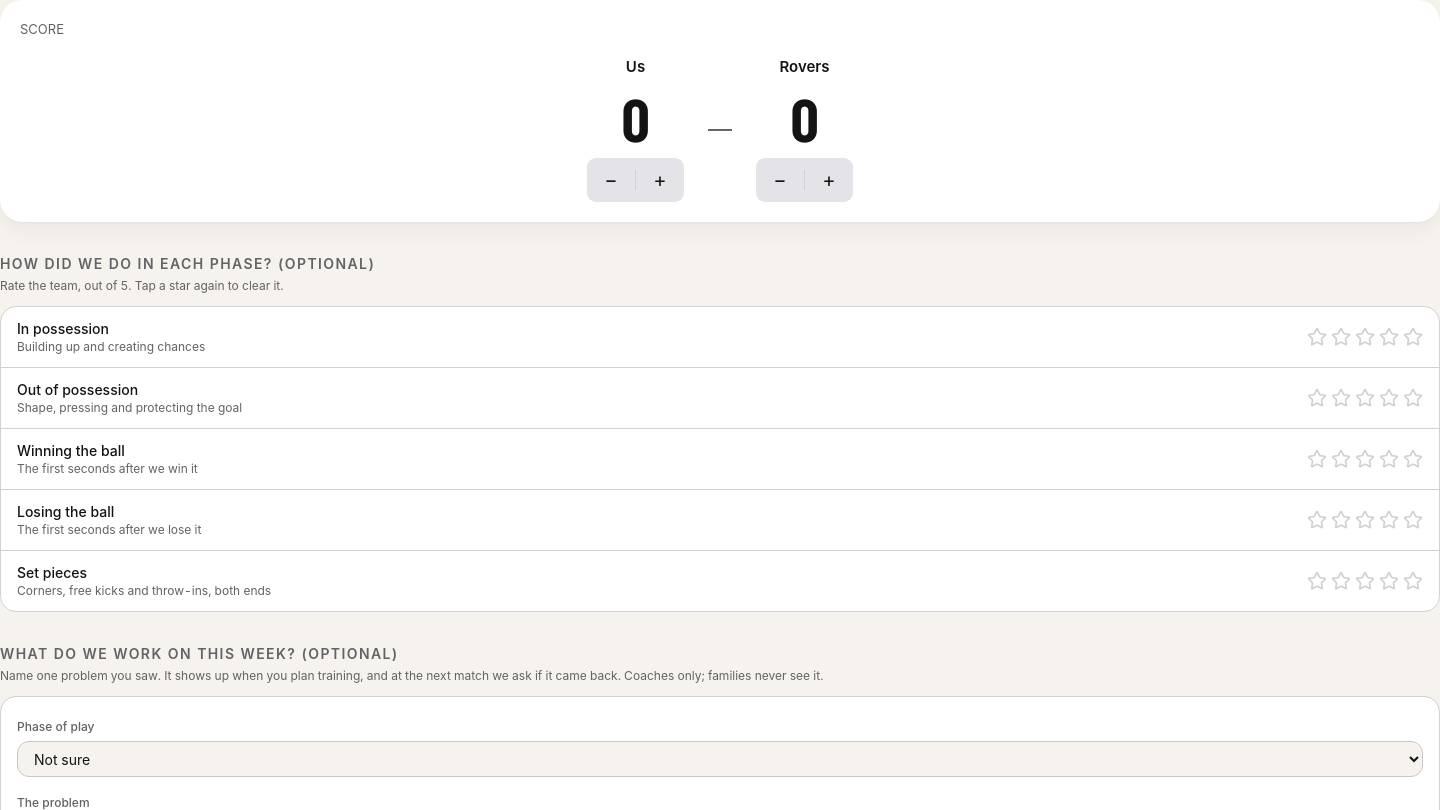
Test: adds the U13 problems for an older team
Select "In possession" in the dropdown labelled "Phase of play" at {"x": 720, "y": 759}, box x1=17 y1=741 x2=1423 y2=777
(page scrolled)
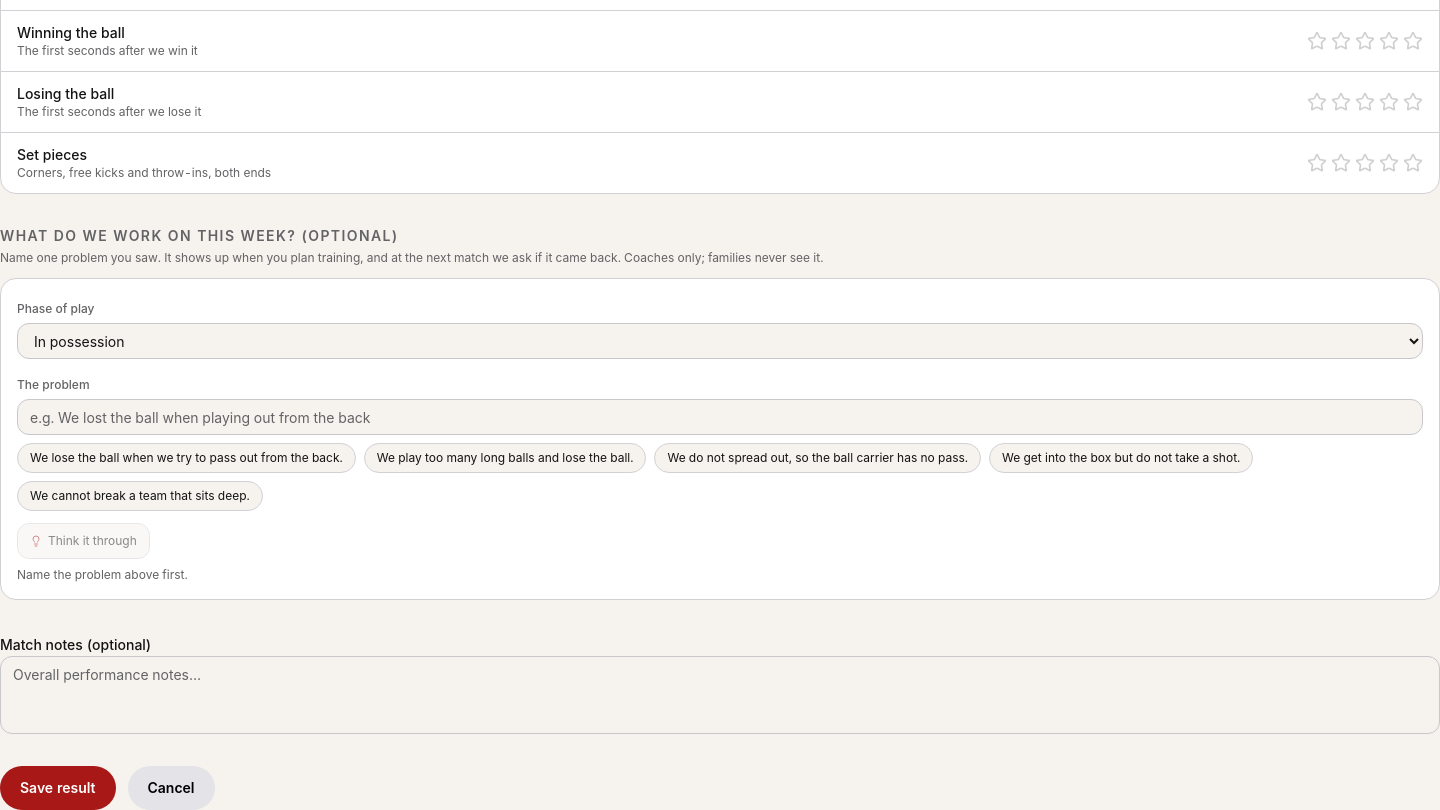
Now the button "We cannot break a team that sits deep." is shown, box x1=17 y1=481 x2=263 y2=511
